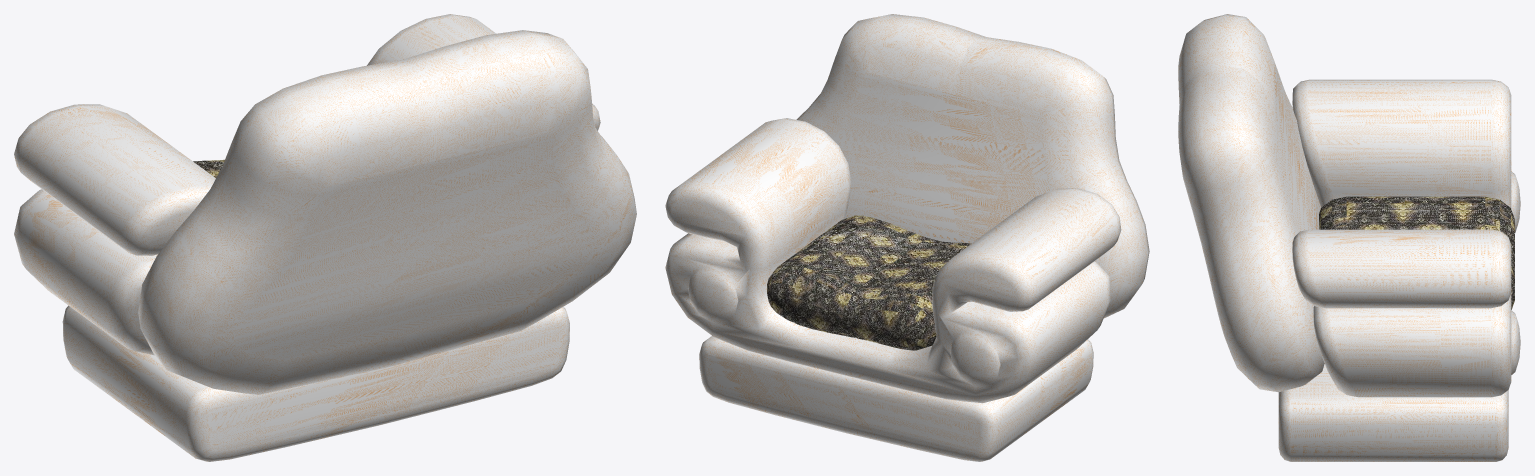
3 renders of one model, left to right at view 1: azimuth 30°, elevation 25°; view 2: azimuth 150°, elevation 25°; view 3: azimuth 270°, elevation 25°, orthographic. The views are drawn at different scales.
Visible parts, largest first — view 1: mesh2_mesh2-geometry, mesh3_mesh3-geometry, mesh4_mesh4-geometry; view 2: mesh3_mesh3-geometry, mesh2_mesh2-geometry, mesh4_mesh4-geometry, mesh1_mesh1-geometry; view 3: mesh3_mesh3-geometry, mesh2_mesh2-geometry, mesh4_mesh4-geometry, mesh1_mesh1-geometry.
Part boxes in pixels (bbox=[...]): mesh2_mesh2-geometry: bbox=[138, 30, 636, 394]; mesh3_mesh3-geometry: bbox=[14, 14, 600, 355]; mesh4_mesh4-geometry: bbox=[62, 305, 569, 461]; mesh3_mesh3-geometry: bbox=[665, 118, 1121, 403]; mesh2_mesh2-geometry: bbox=[796, 14, 1149, 318]; mesh4_mesh4-geometry: bbox=[699, 336, 1093, 461]; mesh1_mesh1-geometry: bbox=[767, 215, 971, 350]; mesh3_mesh3-geometry: bbox=[1292, 79, 1520, 397]; mesh2_mesh2-geometry: bbox=[1178, 14, 1324, 392]; mesh4_mesh4-geometry: bbox=[1278, 364, 1508, 461]; mesh1_mesh1-geometry: bbox=[1319, 196, 1514, 309].
Size of the model in its own units: 0.6794 by 0.536 by 0.5011.
3 materials, 1 textured.
